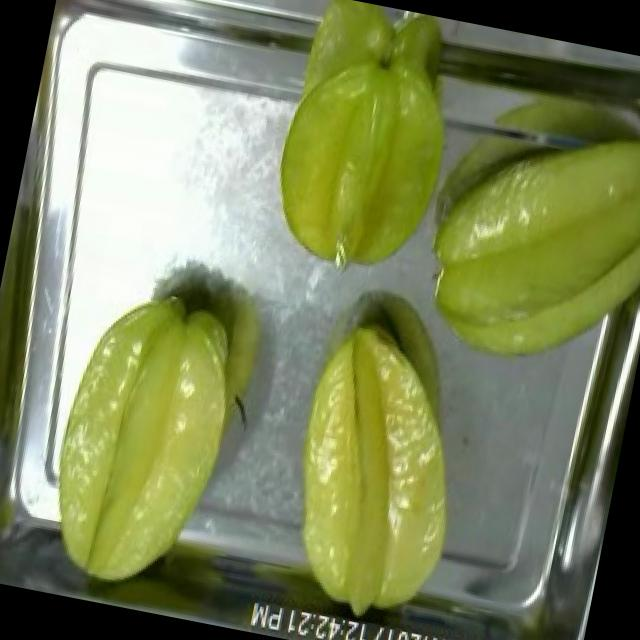fruit: (17, 264, 265, 616), (262, 295, 498, 636), (397, 87, 640, 397), (252, 0, 487, 297)
